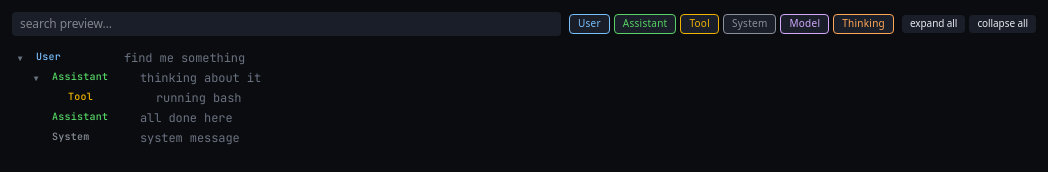
Test: SessionTreeExplorer › filters out hidden node types when a type chip is toggled off
expect the text "system message" is shown: met, box [140,130,240,146]
Click the button "System".
click(750, 24)  # box [723,14,776,34]
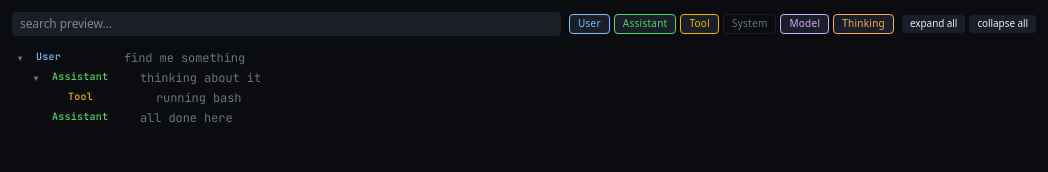
expect the text "find me something" is shown: met, box [124,50,245,66]
expect the text "system message" is gone: met
